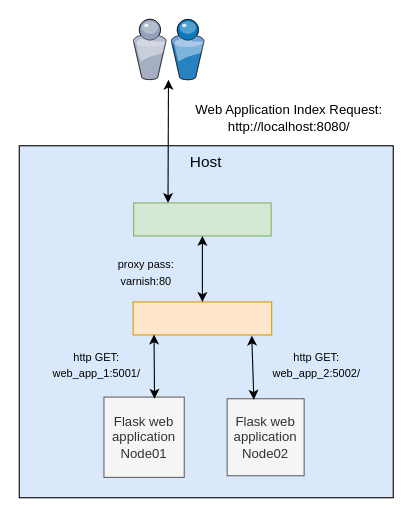
This 413x517 diagram has some shape labels left out. The shapes that lost their labels are listed below. From the top down, each one's centre as x and y in pixels, then its label:
At (202,219): "nginx reverse proxy".
At (202,318): "varnish cache".
